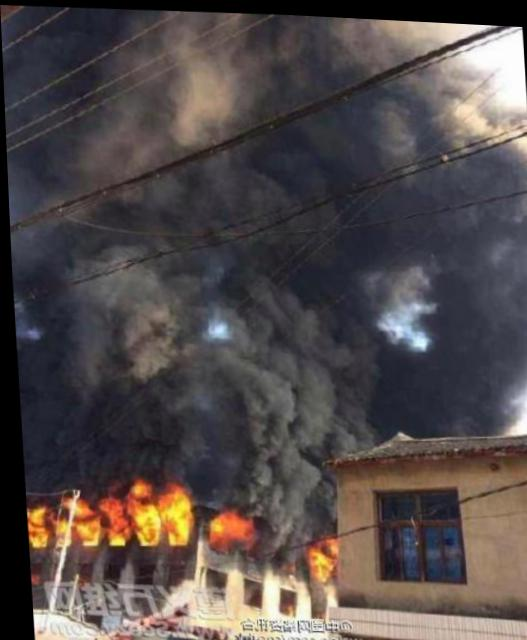fire: (204, 507, 257, 548), (156, 488, 188, 539), (125, 498, 156, 543), (303, 535, 333, 576), (101, 497, 124, 545), (72, 512, 100, 546), (23, 506, 45, 546), (126, 476, 150, 494), (61, 494, 84, 512)
